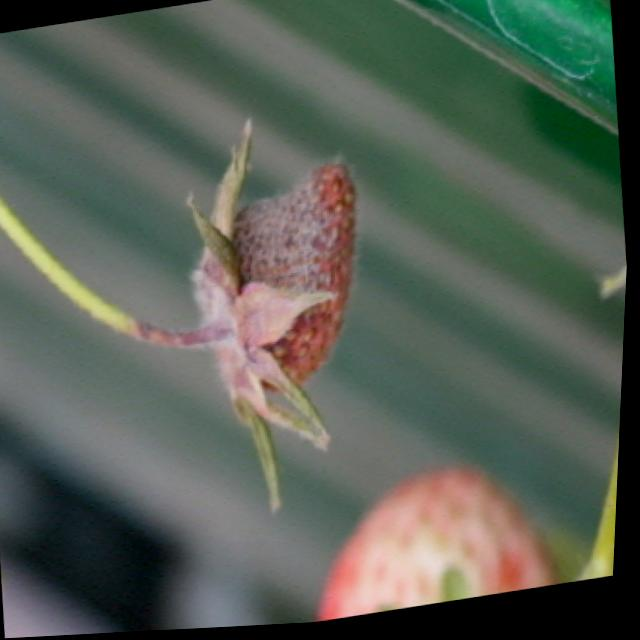Gray Mold: (185, 119, 359, 515)
